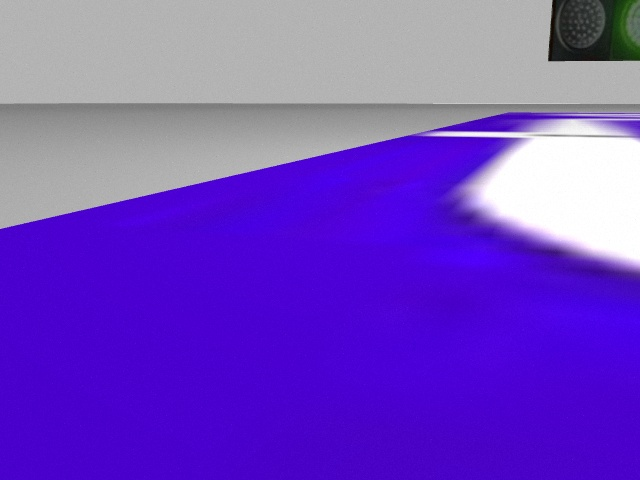green: (615, 3, 640, 56)
